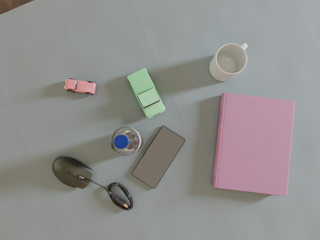book: (212, 93, 295, 196)
bottle: (110, 127, 143, 156)
cup: (209, 43, 248, 81)
mouse: (52, 157, 94, 189)
phone: (132, 126, 185, 189)
toy_car: (127, 68, 165, 118), (64, 79, 96, 95)
